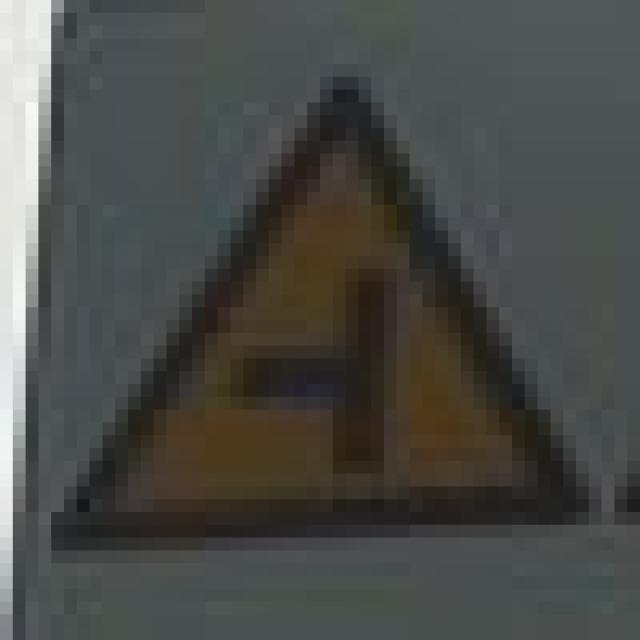side road left: (57, 79, 592, 539)
